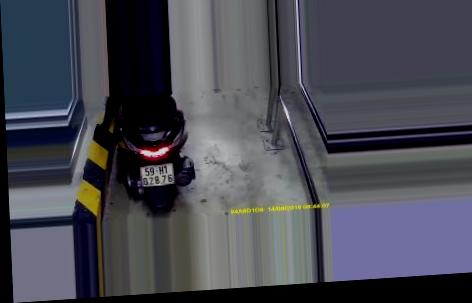License_Plate: (138, 160, 178, 188)
